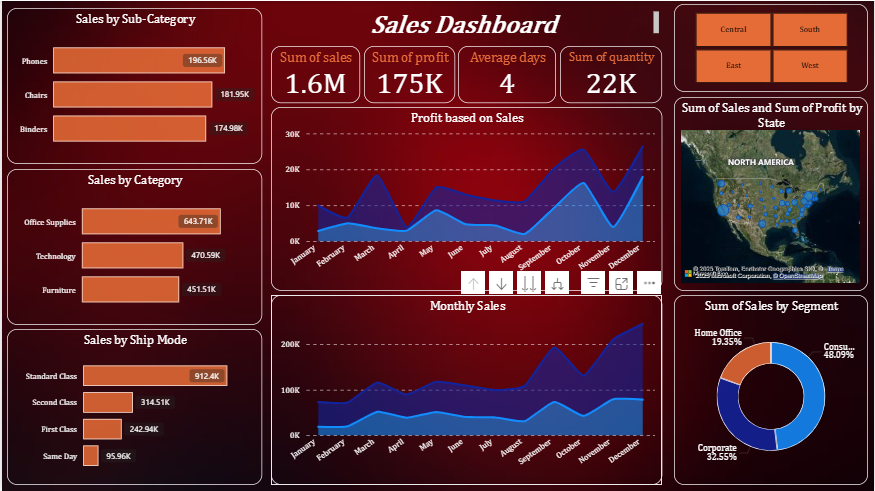

This screenshot's page, from the dashboard's own definition file:
{"tool":"powerbi","page":{"name":"Page 1","canvas":[1280,720],"ordinal":0},"visuals":[{"type":"clusteredBarChart","title":"Sales by Category","fields":{"Category":["SuperStore_Sales_Dataset.Category"],"Y":["Sum(SuperStore_Sales_Dataset.Sales)"]},"box":[7.3,246.9,374.7,229],"z":0},{"type":"clusteredBarChart","title":"Sales by Sub-Category","fields":{"Category":["SuperStore_Sales_Dataset.Sub-Category"],"Y":["Sum(SuperStore_Sales_Dataset.Sales)"]},"box":[7.3,10.3,374.7,229.2],"z":1000},{"type":"clusteredBarChart","title":"Sales by Ship Mode","fields":{"Category":["SuperStore_Sales_Dataset.Ship Mode"],"Y":["Sum(SuperStore_Sales_Dataset.Sales)"]},"box":[7.3,482,374.7,229.2],"z":2000},{"type":"stackedAreaChart","title":"Monthly Sales","fields":{"Y":["Sum(SuperStore_Sales_Dataset.Sales)"],"Series":["SuperStore_Sales_Dataset.Order Date.Variation.Date Hierarchy.Year"],"Category":["SuperStore_Sales_Dataset.Order Date.Variation.Date Hierarchy.Month","SuperStore_Sales_Dataset.Order Date.Variation.Date Hierarchy.Day"]},"box":[395.3,432,574.5,279.2],"z":3000},{"type":"stackedAreaChart","title":"Profit based on Sales","fields":{"Series":["SuperStore_Sales_Dataset.Order Date.Variation.Date Hierarchy.Year"],"Category":["SuperStore_Sales_Dataset.Order Date.Variation.Date Hierarchy.Month","SuperStore_Sales_Dataset.Order Date.Variation.Date Hierarchy.Day"],"Y":["Sum(SuperStore_Sales_Dataset.Profit)"]},"box":[395.3,155.8,574.5,270.4],"z":4000},{"type":"map","fields":{"Category":["SuperStore_Sales_Dataset.State"],"Size":["Sum(SuperStore_Sales_Dataset.Sales)"]},"box":[987.4,141.1,285.1,285.1],"z":5000},{"type":"donutChart","fields":{"Category":["SuperStore_Sales_Dataset.Segment"],"Y":["Sum(SuperStore_Sales_Dataset.Sales)"]},"box":[987.4,432,285.1,279.2],"z":6000},{"type":"slicer","fields":{"Values":["SuperStore_Sales_Dataset.Region"]},"box":[987.4,4.4,285.1,129.3],"z":7000},{"type":"card","title":"Sum of sales","fields":{"Values":["Sum(SuperStore_Sales_Dataset.Sales)"]},"box":[395.3,66.1,130.8,83.8],"z":8000},{"type":"card","title":"Sum of quantity","fields":{"Values":["Sum(SuperStore_Sales_Dataset.Quantity)"]},"box":[819.9,66.1,149.9,83.8],"z":9000},{"type":"card","title":"Sum of profit","fields":{"Values":["Sum(SuperStore_Sales_Dataset.Profit)"]},"box":[531.9,66.1,133.7,83.8],"z":10000},{"type":"card","title":"Average days","fields":{"Values":["Avg(SuperStore_Sales_Dataset.Average_Delivery)"]},"box":[670,66.1,144,83.8],"z":11000},{"type":"textbox","box":[395.3,10.3,574.5,47],"z":12000}]}

Visuals, with their boxes in screenshot pixels (x1, y1, x2, y2), scaled from the page's 1280x720 canvas onto the 875x491 screenshot:
"Sales by Category" clusteredBarChart: (x1=5, y1=168, x2=261, y2=325)
"Sales by Sub-Category" clusteredBarChart: (x1=5, y1=7, x2=261, y2=163)
"Sales by Ship Mode" clusteredBarChart: (x1=5, y1=329, x2=261, y2=485)
"Monthly Sales" stackedAreaChart: (x1=270, y1=295, x2=663, y2=485)
"Profit based on Sales" stackedAreaChart: (x1=270, y1=106, x2=663, y2=291)
map - SuperStore_Sales_Dataset.State x Sum(SuperStore_Sales_Dataset.Sales): (x1=675, y1=96, x2=870, y2=291)
donutChart - SuperStore_Sales_Dataset.Segment x Sum(SuperStore_Sales_Dataset.Sales): (x1=675, y1=295, x2=870, y2=485)
slicer - SuperStore_Sales_Dataset.Region: (x1=675, y1=3, x2=870, y2=91)
"Sum of sales" card: (x1=270, y1=45, x2=360, y2=102)
"Sum of quantity" card: (x1=560, y1=45, x2=663, y2=102)
"Sum of profit" card: (x1=364, y1=45, x2=455, y2=102)
"Average days" card: (x1=458, y1=45, x2=556, y2=102)
textbox: (x1=270, y1=7, x2=663, y2=39)
